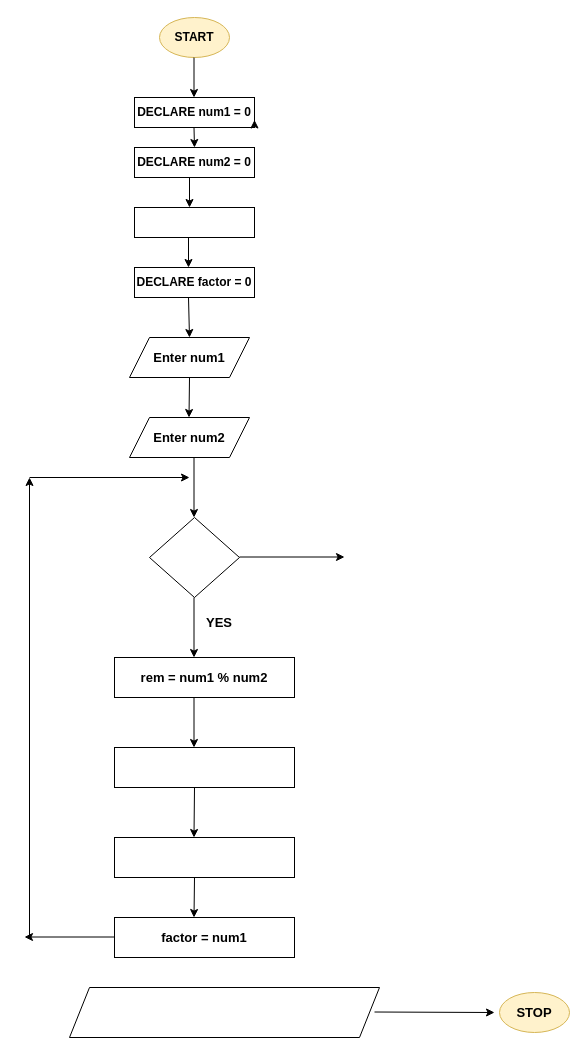
This 587x1055 diagram has some shape labels left out. The centre of each missing label's shape, as x and y in pixels:
DECLARE rem = 0: point 194,222
num1 = num2: point 204,767
num2 != 0: point 194,557
num2 = rem: point 204,857
SHOW "Highest common factor:" + num1: point 224,1012
